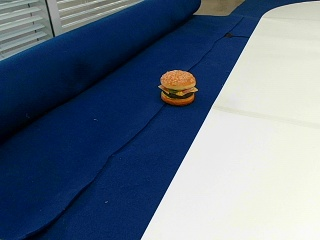burger: (158, 69, 196, 105)
